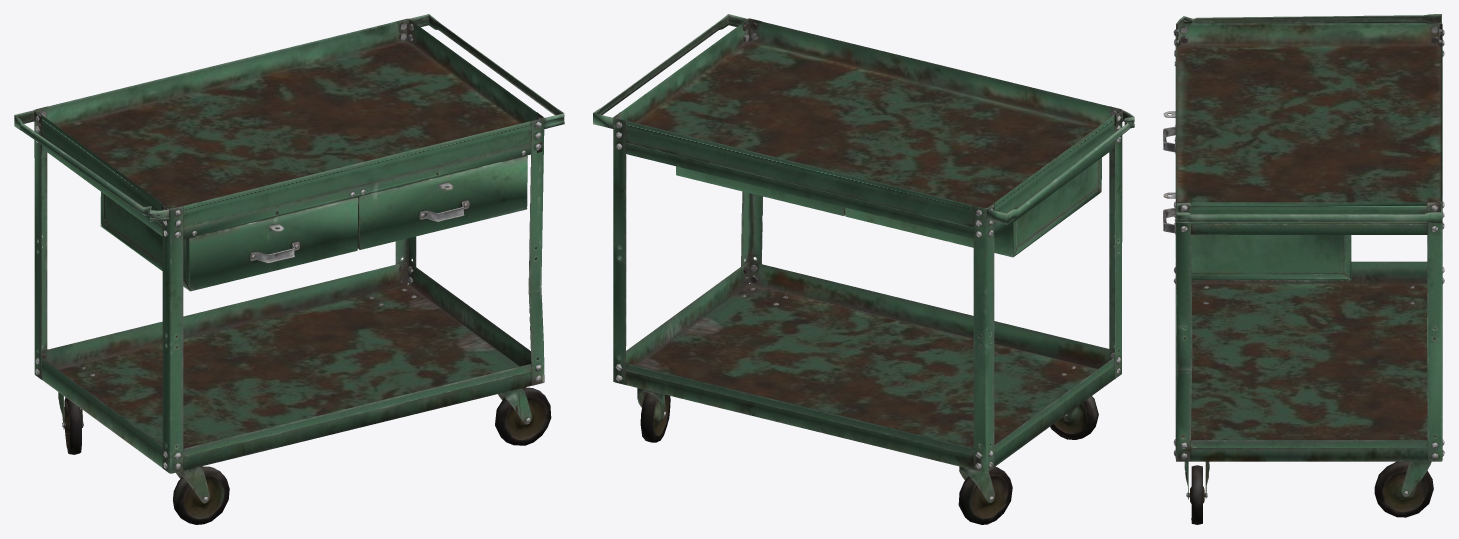
File: tool_cart.glb
3 renders of one model, left to right at view 1: azimuth 30°, elevation 25°; view 2: azimuth 150°, elevation 25°; view 3: azimuth 270°, elevation 25°, orthographic. The views are drawn at different scales.
Visible parts, largest first — view 1: tool_cart; view 2: tool_cart; view 3: tool_cart.
Part boxes in pixels (x1,y1,x2,y2): tool_cart: (14,14,564,524); tool_cart: (593,14,1134,524); tool_cart: (1163,14,1444,524).
Bounding box in the file's own units: 1.27 × 0.9647 × 0.7543.
Materials: 1 (1 with a texture image).
